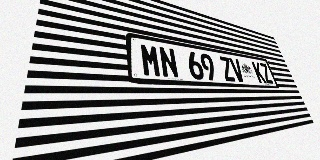6: (185, 51, 205, 80)
9: (199, 53, 218, 81)
K: (251, 61, 267, 83)
M: (139, 43, 162, 78)
N: (158, 46, 180, 78)
V: (229, 58, 246, 82)
Z: (218, 56, 236, 82), (259, 63, 274, 84)
